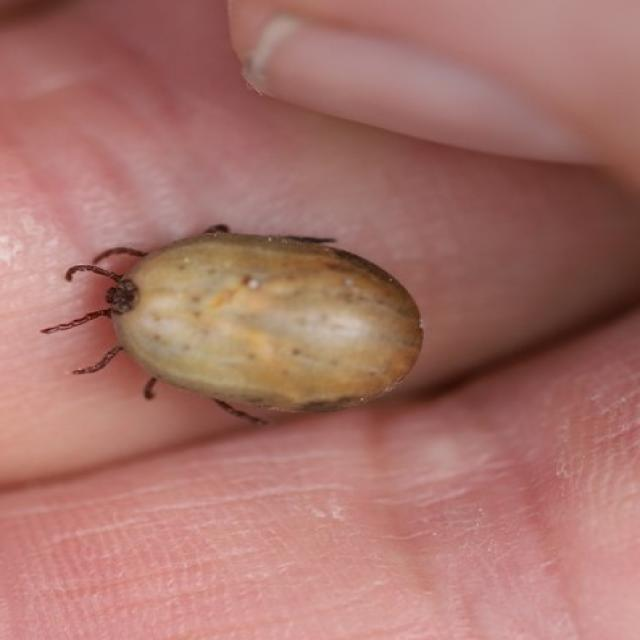Dermacentor Reticulatus-F-Fed: (40, 225, 422, 425)
